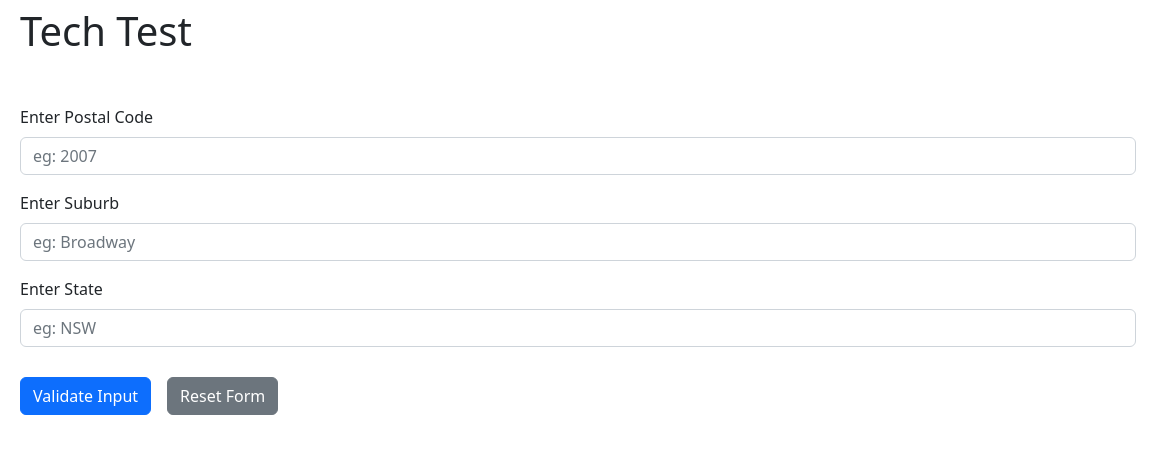
Scenario: empty spec › Validate for invalid postal code input
Type "123a" into the field with placeholder "eg: 2007". click: (578, 156)
box: [20, 137, 1136, 175]
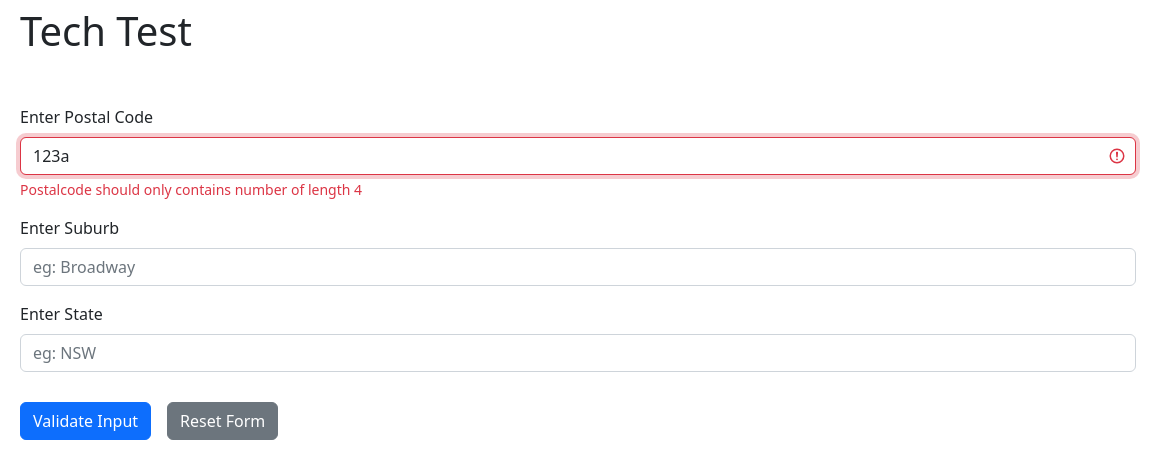
Check: the text "Postalcode should only contains number of length 4" is shown, box [20, 180, 362, 199]
